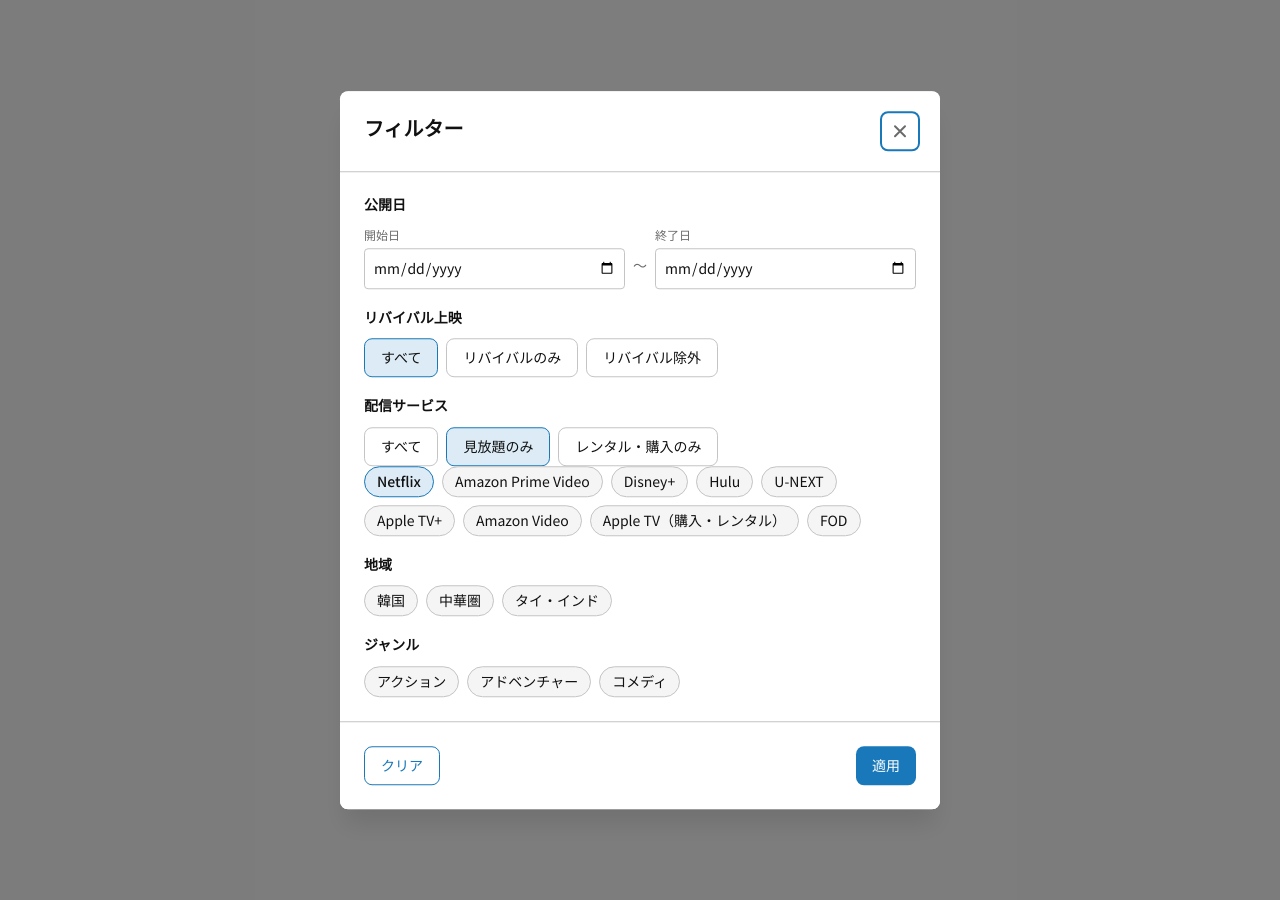
Test case: FilterModal › 配信サービスフィルター › クリアで配信サービスの選択も解除される
expect the checkbox labelled "Netflix" is checked: met, box [364,466,434,497]
Click the button "クリア".
click(402, 765)  # box [364,746,440,785]
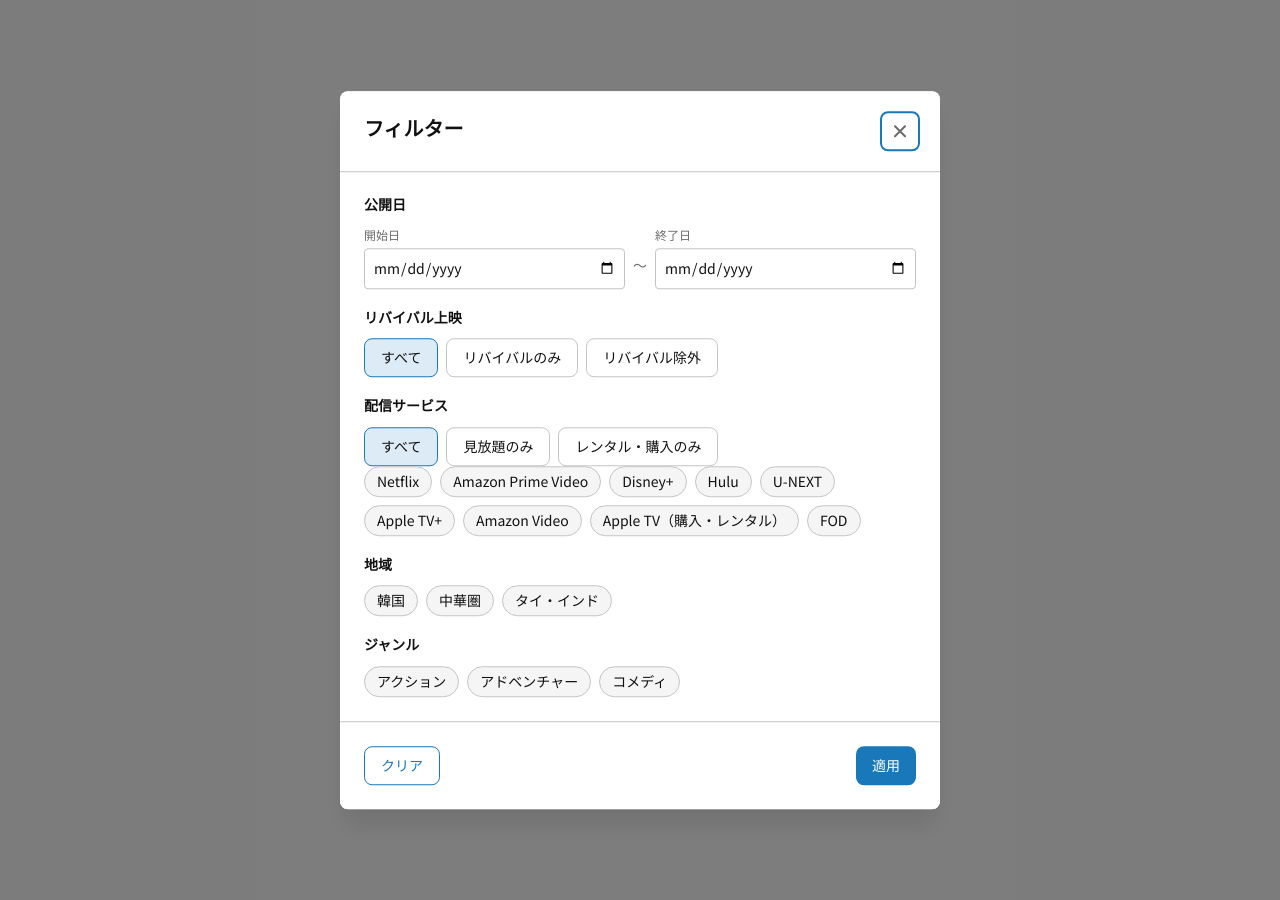
expect the checkbox labelled "Netflix" is not checked: met, box [364,466,432,497]
expect the radio button labelled "見放題のみ" is not checked: met, box [446,427,550,466]
